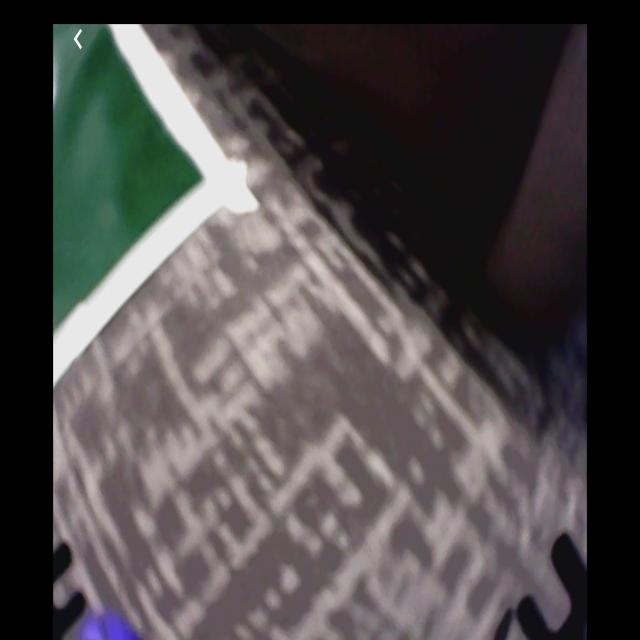ball: (82, 610, 144, 640)
